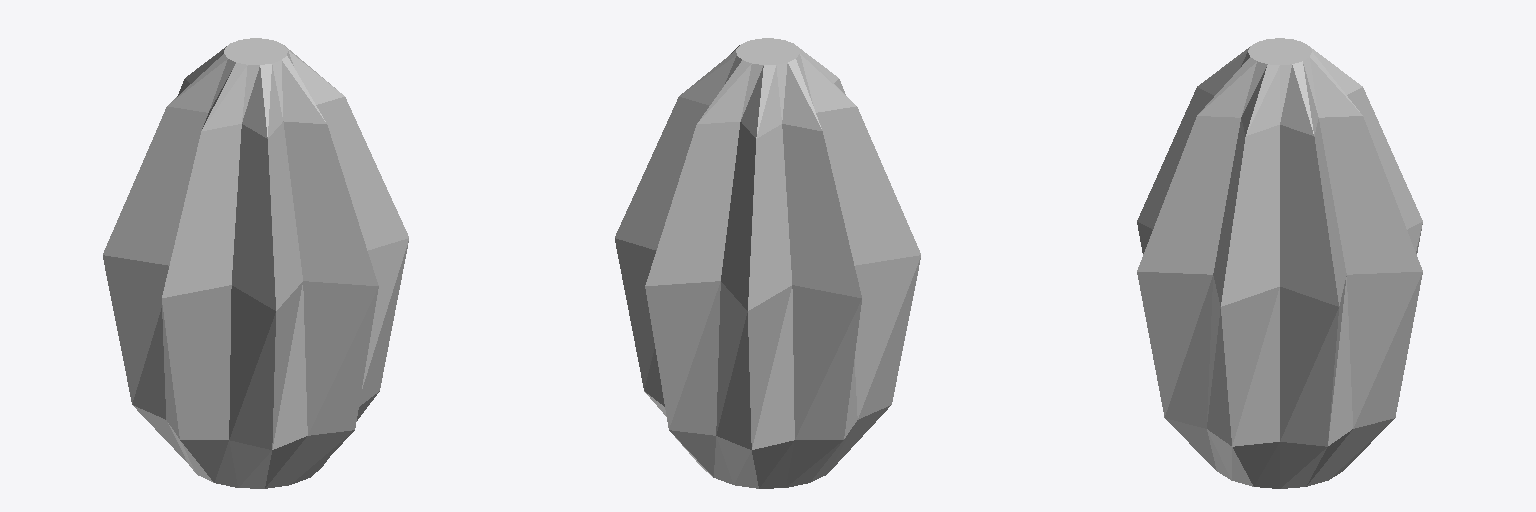
File: Cactus4.obj
3 views of the same model, side by side, from view 1: azimuth 30°, elevation 25°; view 2: azimuth 150°, elevation 25°; view 3: azimuth 270°, elevation 25° (orthographic).
Visible parts, largest first — view 1: Cactus_2.001; view 2: Cactus_2.001; view 3: Cactus_2.001.
Boxes of the visible parts, x1=… form: Cactus_2.001: x1=103, y1=38, x2=408, y2=488; Cactus_2.001: x1=615, y1=38, x2=920, y2=488; Cactus_2.001: x1=1137, y1=38, x2=1422, y2=488.
Bounding box in the file's own units: 2.01 × 3.16 × 2.01.